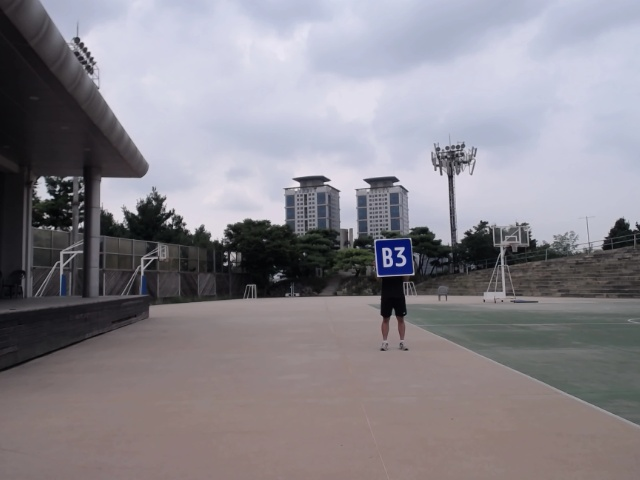delivery_b3: (372, 234, 417, 278)
